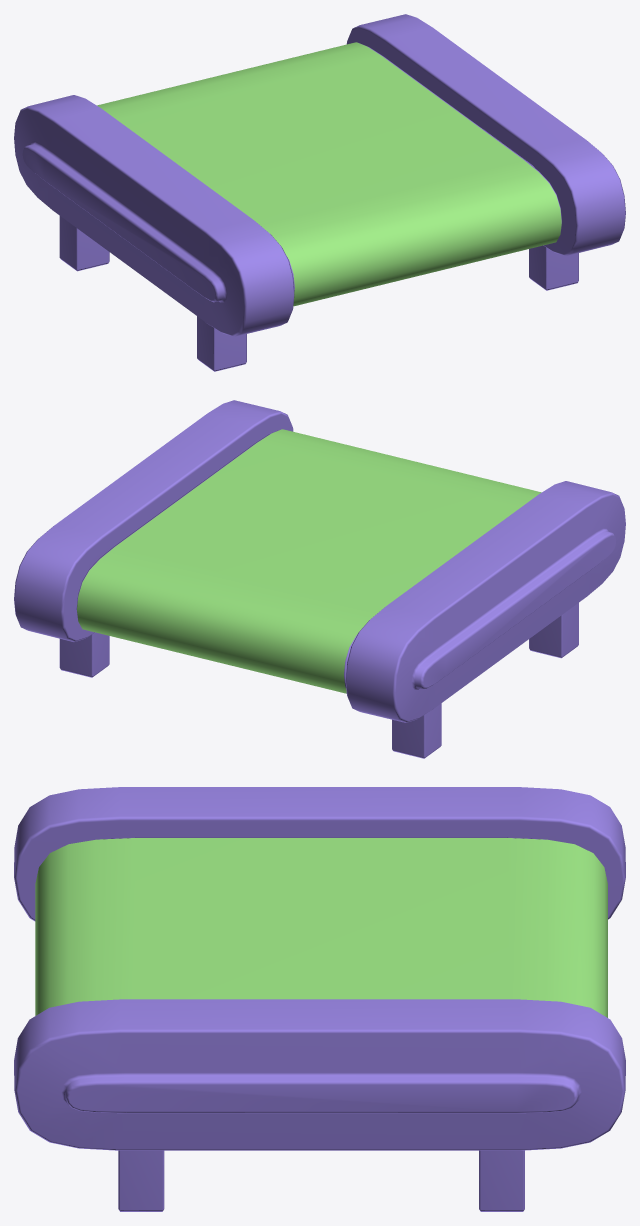
File: Tasmociag.fbx
3 renders of one model, top to bottom at view 1: azimuth 30°, elevation 25°; view 2: azimuth 150°, elevation 25°; view 3: azimuth 270°, elevation 25°, orthographic. The views are drawn at different scales.
Visible parts, largest first — view 1: Cube.001; view 2: Cube.001; view 3: Cube.001.
Boxes of the visible parts, bbox=[...] form: Cube.001: bbox=[14, 14, 625, 371]; Cube.001: bbox=[14, 400, 625, 758]; Cube.001: bbox=[14, 787, 625, 1211].
Size of the model in its own units: 99.26 by 33.78 by 99.81.
